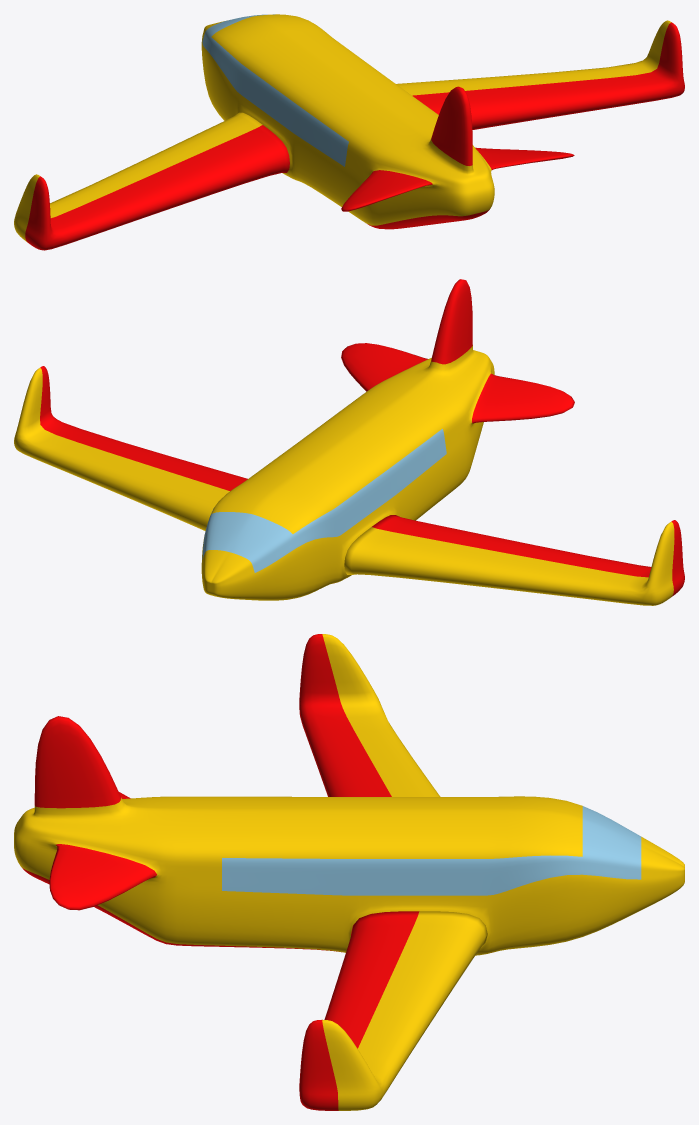
File: sarioyuncaq.fbx
3 views of the same model, one above another, from view 1: azimuth 30°, elevation 25°; view 2: azimuth 150°, elevation 25°; view 3: azimuth 270°, elevation 25° (orthographic). The views are drawn at different scales.
Visible parts, largest first — view 1: Cube.011, Cube.002, Cube.003; view 2: Cube.011, Cube.002, Cube.003; view 3: Cube.011, Cube.003, Cube.002.
Part boxes in pixels (x1,y1,x2,y2): Cube.011: (201, 14, 574, 229); Cube.002: (14, 112, 289, 250); Cube.003: (396, 20, 684, 129); Cube.011: (201, 279, 574, 600); Cube.002: (344, 515, 684, 605); Cube.003: (14, 366, 247, 530); Cube.011: (14, 716, 684, 955); Cube.003: (299, 911, 487, 1110); Cube.002: (299, 634, 440, 796).
Size of the model in its own units: 2663 by 688 by 1905.
